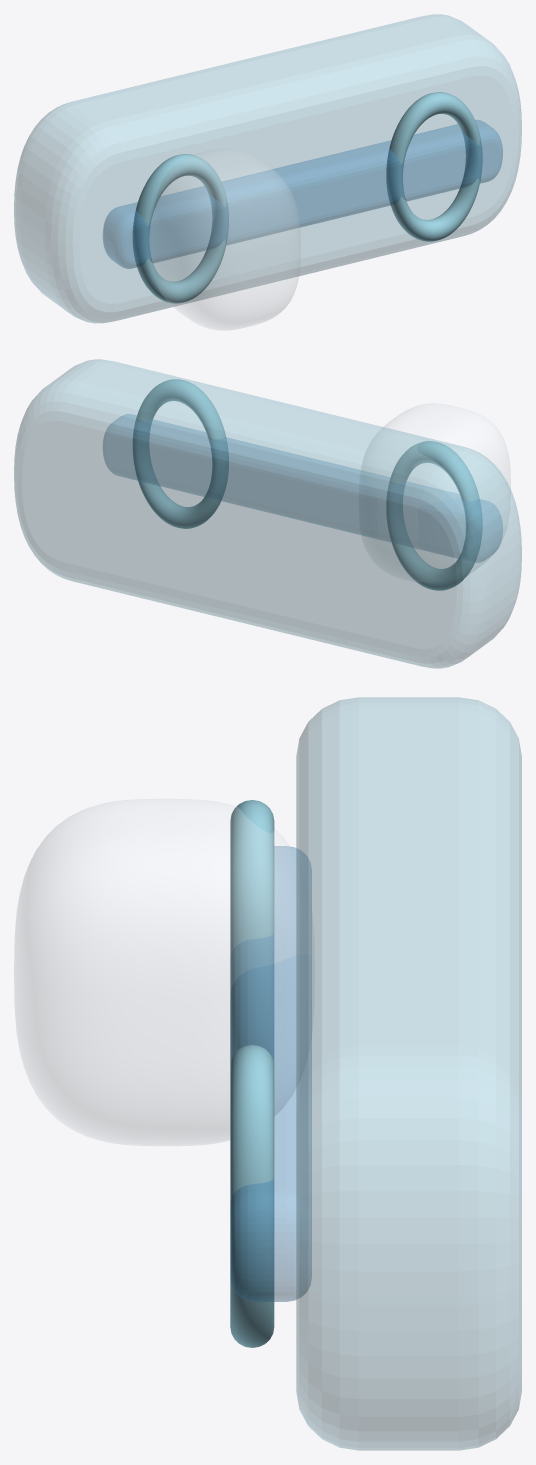
The picture shows the model from 3 angles, top to bottom: view 1: azimuth 30°, elevation 25°; view 2: azimuth 150°, elevation 25°; view 3: azimuth 270°, elevation 25°; orthographic projection. The views are drawn at different scales.
Parts seen in each view (by area): view 1: cradle, channel, thumb-0, well-lip-0.7, well-lip--0.7; view 2: cradle, channel, well-lip-0.7, well-lip--0.7, thumb-0; view 3: cradle, thumb-0, channel, well-lip-0.7, well-lip--0.7.
Part boxes in pixels (box(x1,y1,x2,y2)): cradle: box(14, 14, 521, 323); channel: box(103, 120, 502, 268); thumb-0: box(152, 149, 300, 330); well-lip-0.7: box(386, 92, 482, 241); well-lip--0.7: box(132, 154, 228, 303); cradle: box(14, 359, 521, 668); channel: box(103, 414, 502, 562); well-lip-0.7: box(133, 379, 228, 528); well-lip--0.7: box(386, 441, 482, 590); thumb-0: box(383, 403, 510, 489); cradle: box(296, 697, 521, 1450); thumb-0: box(14, 799, 296, 1145); channel: box(230, 846, 311, 1301); well-lip-0.7: box(230, 1045, 274, 1347); well-lip--0.7: box(230, 800, 274, 1062).
Size of the model in its own units: 1.72 by 0.69 by 0.81.
